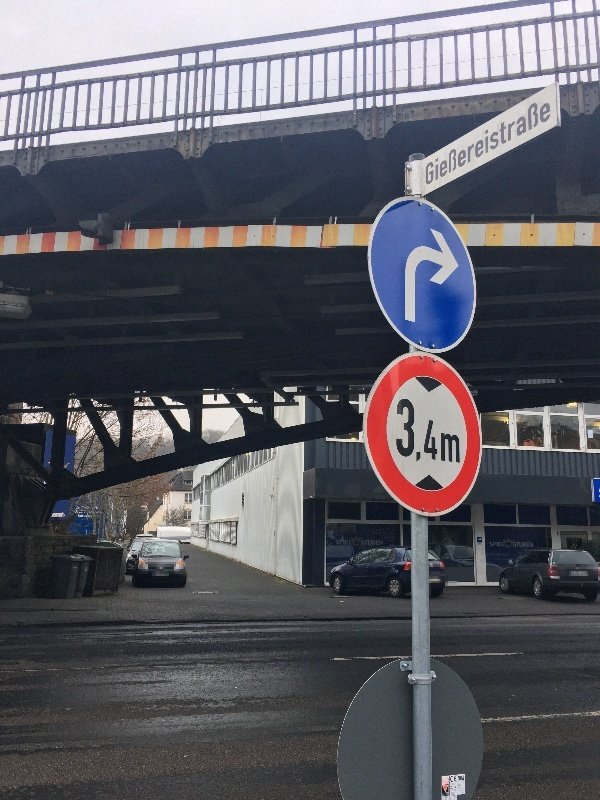text: (433, 95, 448, 188), (449, 95, 464, 188), (465, 95, 480, 188), (481, 95, 496, 188), (497, 95, 512, 188), (513, 95, 528, 188), (529, 95, 544, 188), (401, 398, 416, 467), (417, 398, 432, 467), (433, 398, 448, 467), (449, 398, 461, 467), (426, 95, 432, 188), (545, 95, 551, 188), (397, 398, 400, 467), (337, 539, 353, 546), (369, 539, 384, 546), (513, 541, 528, 548), (497, 551, 510, 558), (487, 551, 496, 558), (497, 541, 505, 548), (361, 539, 368, 546), (490, 541, 496, 548), (572, 541, 576, 551), (529, 541, 534, 548), (569, 538, 576, 542), (577, 538, 580, 542)
